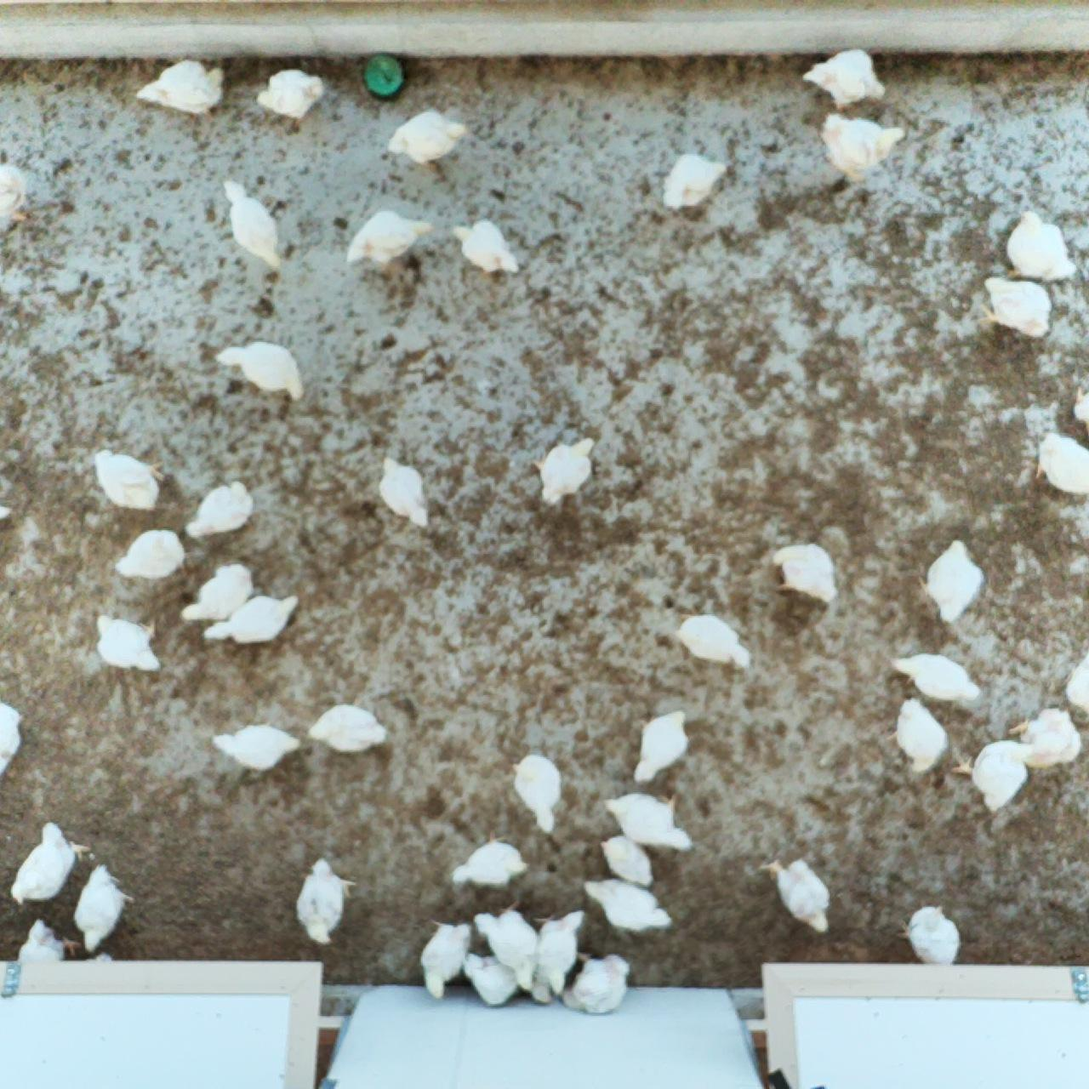chicken: (5, 818, 92, 912), (817, 109, 908, 193), (133, 56, 232, 132), (749, 846, 830, 938), (217, 174, 289, 277), (342, 203, 439, 279), (469, 897, 544, 994), (797, 40, 892, 115), (384, 105, 474, 183), (912, 535, 986, 628), (212, 339, 309, 408), (951, 735, 1032, 816), (199, 589, 304, 651), (290, 854, 359, 948), (601, 786, 695, 854), (530, 902, 589, 1010), (1000, 208, 1080, 286), (973, 271, 1057, 345), (71, 859, 135, 956), (449, 825, 535, 896), (580, 874, 678, 936), (89, 442, 166, 520), (1001, 704, 1084, 773), (884, 693, 952, 777), (251, 64, 329, 137), (413, 913, 477, 1001), (529, 432, 598, 510), (557, 948, 636, 1016), (179, 559, 258, 627), (208, 718, 302, 775), (887, 649, 982, 705), (183, 476, 258, 546), (655, 149, 731, 218), (670, 611, 753, 674), (630, 704, 693, 787), (893, 893, 964, 966), (303, 697, 388, 757), (92, 607, 165, 676), (447, 215, 522, 282), (769, 539, 840, 606), (510, 752, 563, 838), (113, 525, 186, 587), (376, 452, 431, 534), (1030, 429, 1089, 500), (459, 945, 521, 1010), (14, 915, 83, 965), (1057, 643, 1089, 719), (0, 698, 29, 780)
